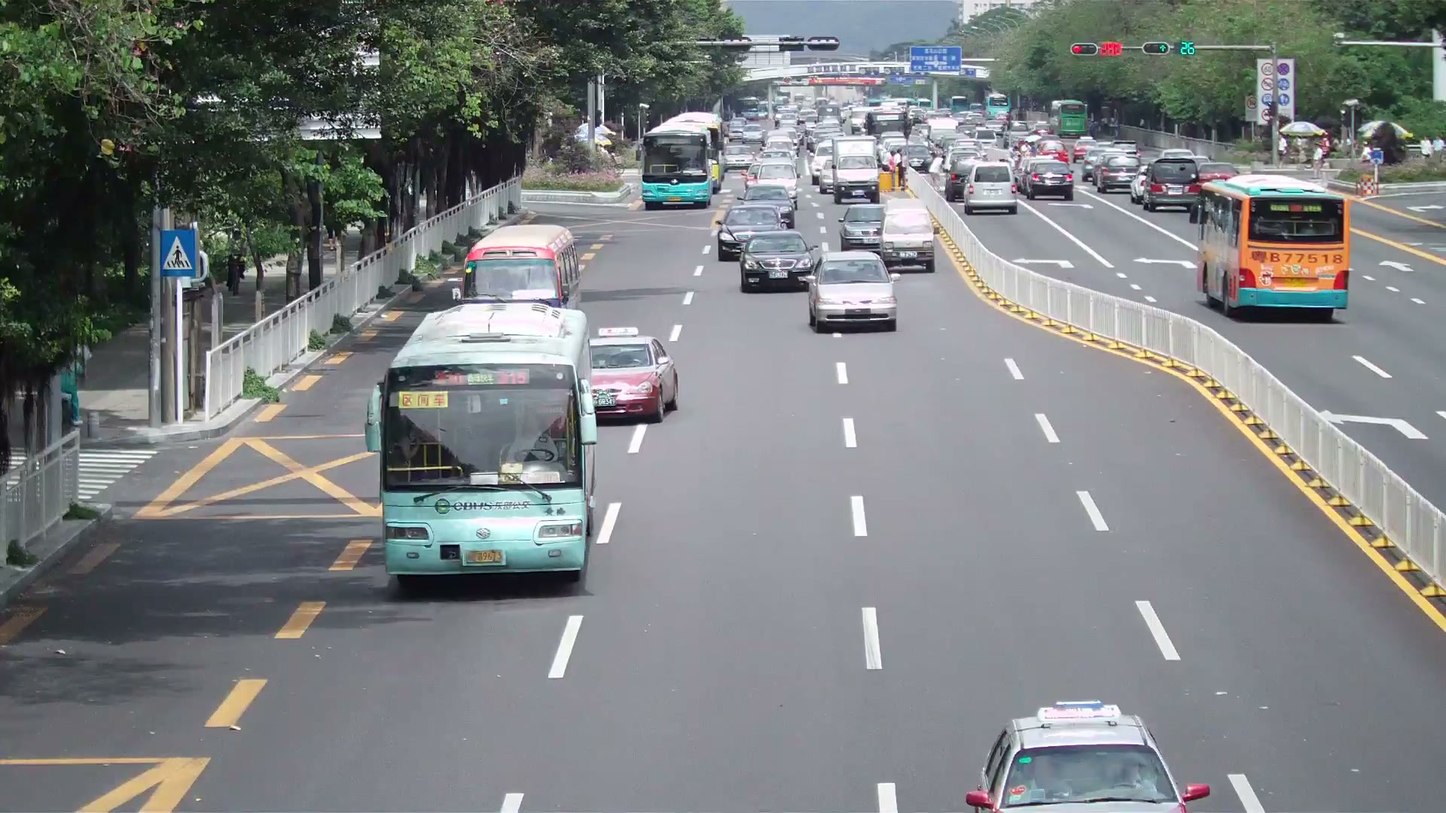bus: (372, 299, 599, 585), (1192, 174, 1351, 321), (461, 223, 581, 306), (640, 115, 720, 208)
car: (967, 700, 1208, 810), (587, 330, 679, 421), (806, 249, 899, 333), (739, 232, 820, 291), (878, 199, 937, 274), (1132, 153, 1202, 211), (717, 206, 788, 260), (1015, 150, 1075, 201), (960, 163, 1017, 216), (839, 202, 886, 248)
pedestrian: (1359, 140, 1383, 196)
truck: (461, 222, 582, 306), (823, 135, 883, 200)
